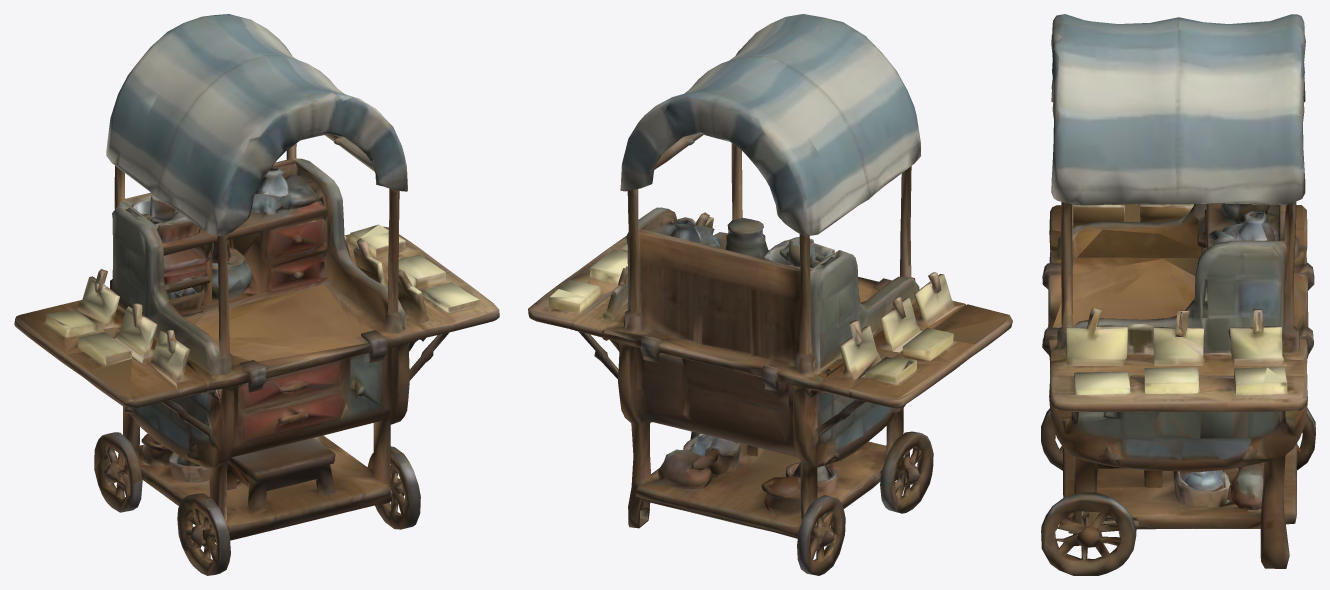
Rendered from sc-pocket-stall.glb.
3 renders of one model, left to right at view 1: azimuth 30°, elevation 25°; view 2: azimuth 150°, elevation 25°; view 3: azimuth 270°, elevation 25°, orthographic. The views are drawn at different scales.
Visible parts, largest first — view 1: geometry_0; view 2: geometry_0; view 3: geometry_0.
Part boxes in pixels (x1,y1,x2,y2): geometry_0: (14, 14, 499, 575); geometry_0: (528, 14, 1012, 575); geometry_0: (1041, 14, 1315, 575).
Size of the model in its own units: 0.8639 by 1 by 0.5009.
1 material, 1 textured.
